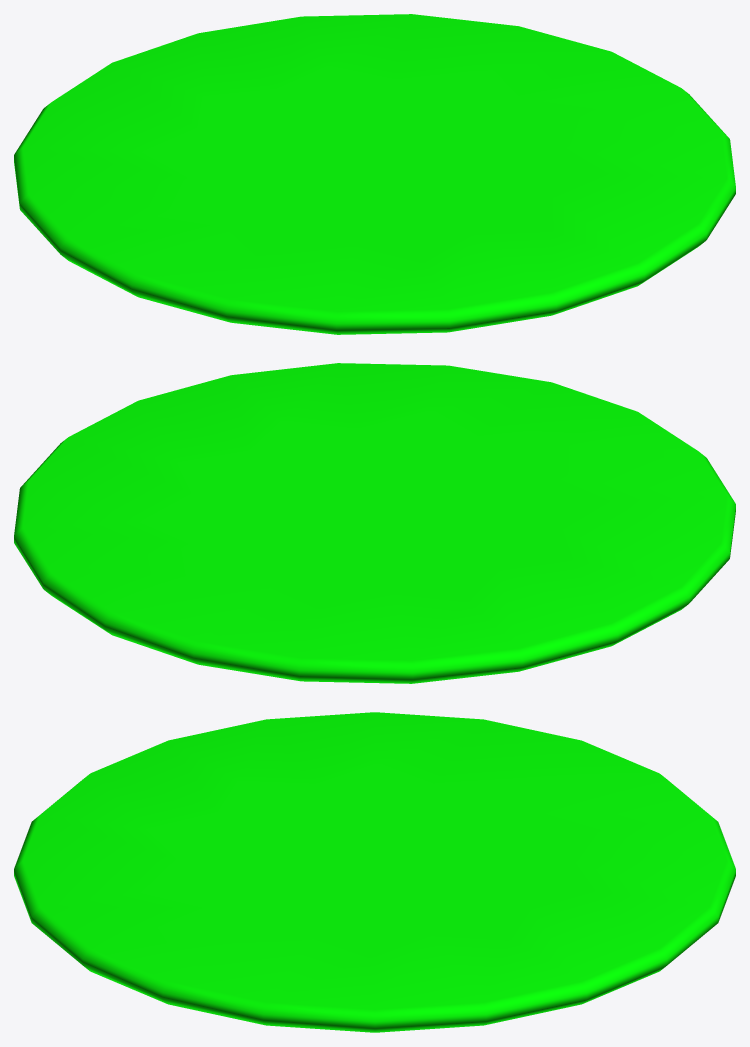
Rendered from LilyPad_4.fbx.
The picture shows the model from 3 angles, top to bottom: view 1: azimuth 30°, elevation 25°; view 2: azimuth 150°, elevation 25°; view 3: azimuth 270°, elevation 25°; orthographic projection.
Parts seen in each view (by area): view 1: LilyPad_4; view 2: LilyPad_4; view 3: LilyPad_4.
Part boxes in pixels (x1,y1,x2,y2): LilyPad_4: [14, 14, 735, 334]; LilyPad_4: [14, 363, 735, 683]; LilyPad_4: [14, 712, 735, 1032].
Size of the model in its own units: 540 by 19.16 by 540.
